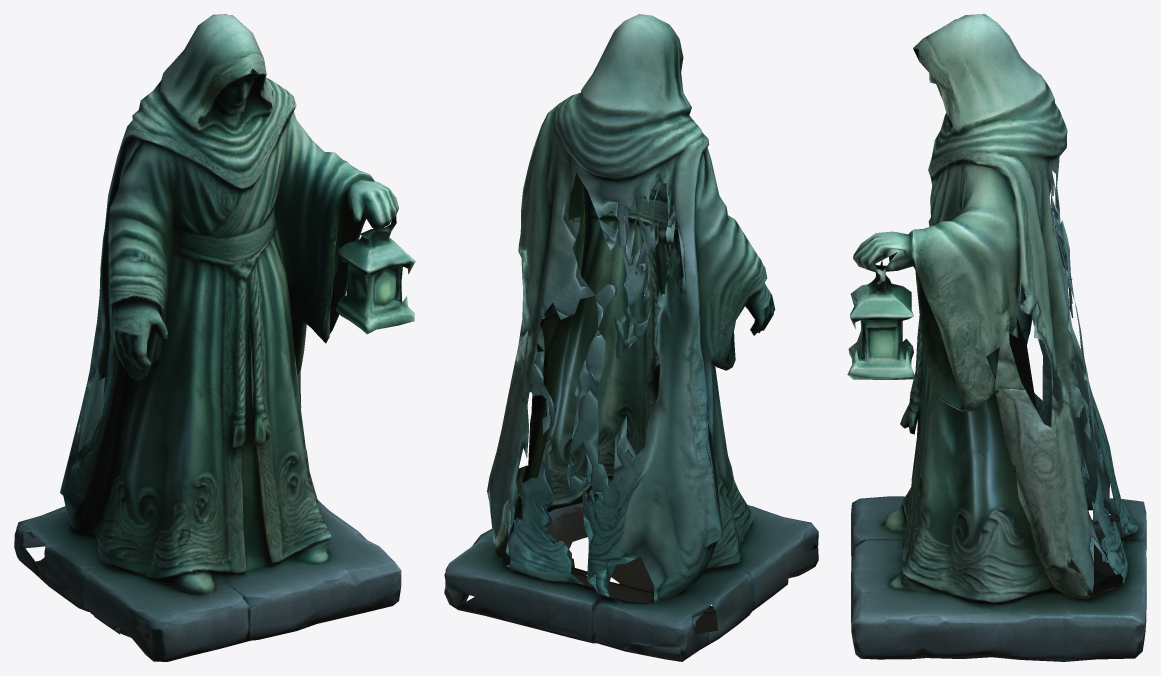
File: skin-tide.glb
The picture shows the model from 3 angles, left to right: view 1: azimuth 30°, elevation 25°; view 2: azimuth 150°, elevation 25°; view 3: azimuth 270°, elevation 25°; orthographic projection. The views are drawn at different scales.
Visible parts, largest first — view 1: geometry_0; view 2: geometry_0; view 3: geometry_0.
Part boxes in pixels (x1,y1,x2,y2): geometry_0: [14, 14, 415, 661]; geometry_0: [444, 14, 818, 661]; geometry_0: [847, 14, 1146, 661].
Size of the model in its own units: 0.4711 by 0.9986 by 0.4598.
Materials: 1 (1 with a texture image).
